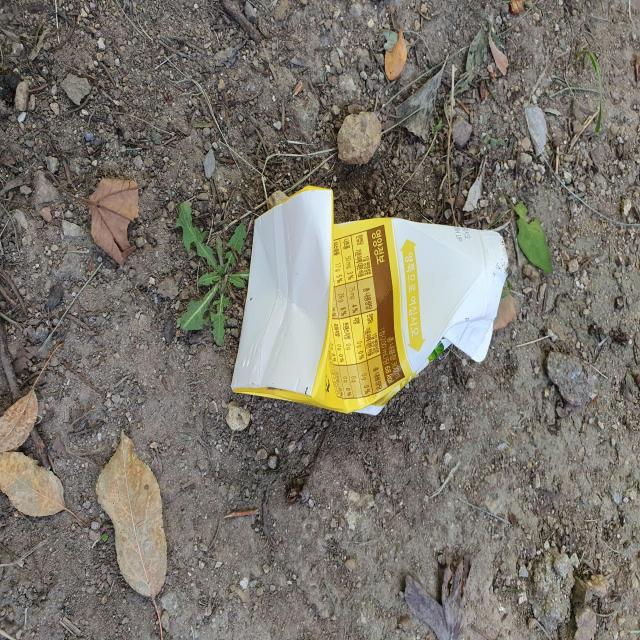paperpack: (231, 186, 509, 414)
